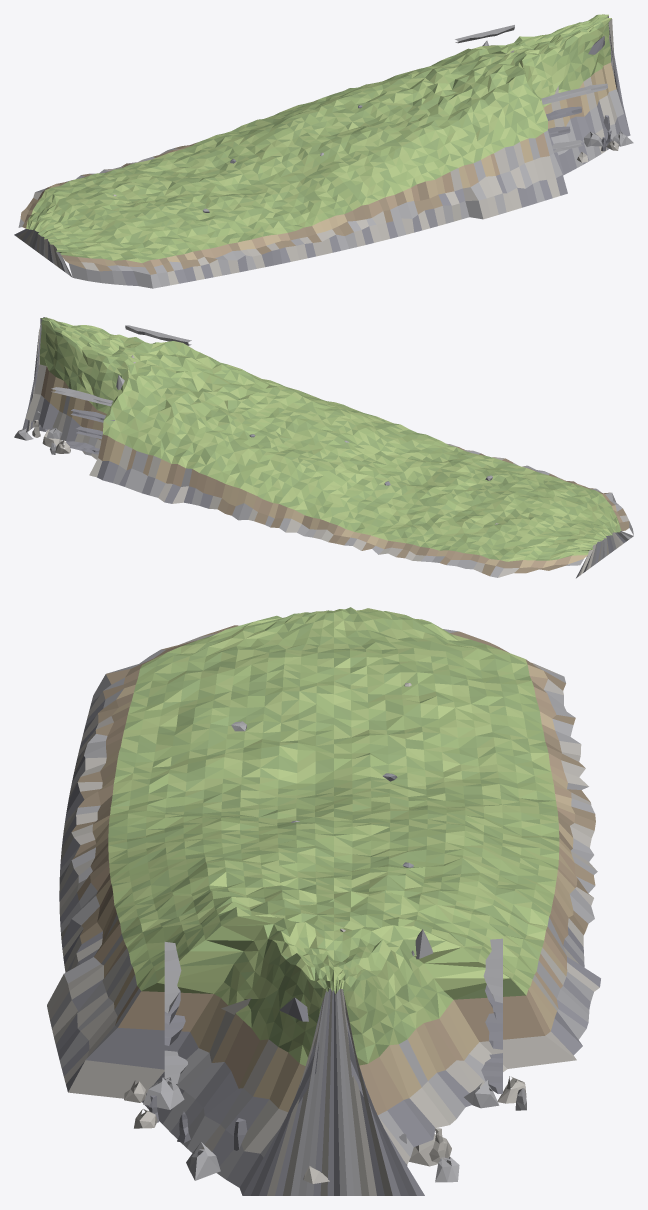
Rendered from Ile_Falaise_Detaillee.glb.
The picture shows the model from 3 angles, top to bottom: view 1: azimuth 30°, elevation 25°; view 2: azimuth 150°, elevation 25°; view 3: azimuth 270°, elevation 25°; orthographic projection. The views are drawn at different scales.
Parts seen in each view (by area): view 1: Island, Ledge_S_38; view 2: Island, Ledge_N_38, Ledge_S_38; view 3: Island, Ledge_S_38, Ledge_N_38, CliffRock_7, CliffRock_5.
Part boxes in pixels (x1=…): Island: x1=14, y1=14, x2=630, y2=288; Ledge_S_38: x1=541, y1=83, x2=607, y2=104; Island: x1=22, y1=317, x2=633, y2=578; Ledge_N_38: x1=51, y1=387, x2=112, y2=406; Ledge_S_38: x1=125, y1=325, x2=191, y2=345; Island: x1=47, y1=607, x2=600, y2=1195; Ledge_S_38: x1=164, y1=942, x2=181, y2=1013; Ledge_N_38: x1=483, y1=938, x2=502, y2=1003; CliffRock_7: x1=143, y1=1077, x2=184, y2=1109; CliffRock_5: x1=186, y1=1142, x2=220, y2=1180.
Size of the model in its own units: 349 by 61.31 by 148.
